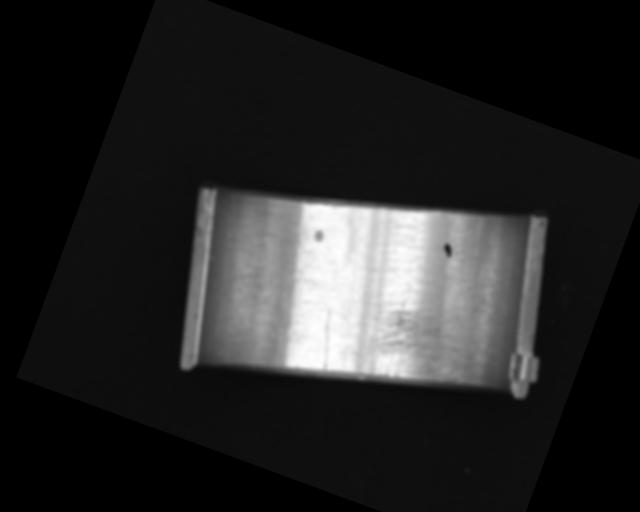blot: (440, 242, 455, 260)
bruise: (312, 228, 325, 243)
nick: (205, 192, 272, 284), (308, 308, 346, 370)
scratch: (349, 292, 481, 410)
